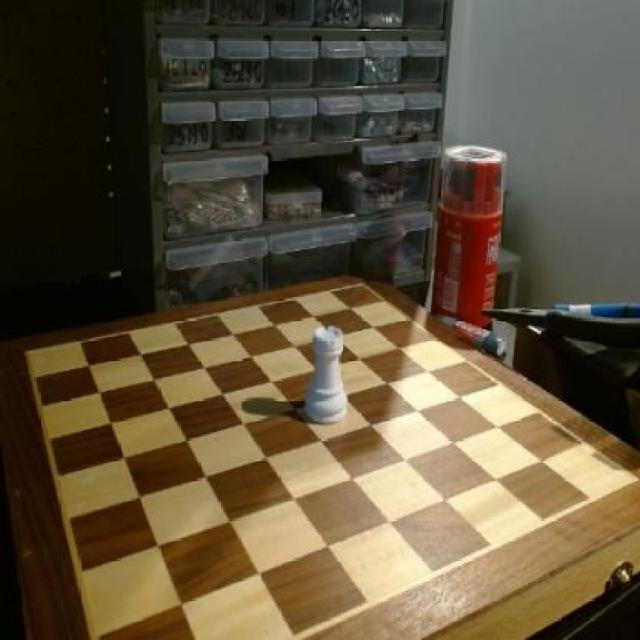white-queen: (303, 326, 358, 434)
